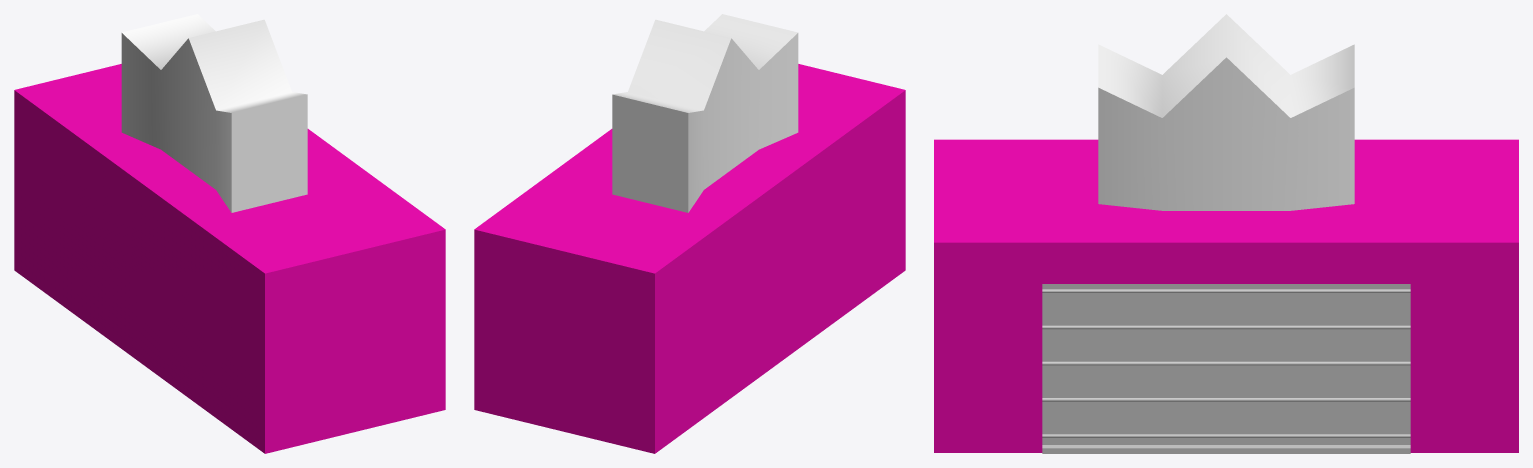
File: Home.fbx
3 views of the same model, side by side, from view 1: azimuth 30°, elevation 25°; view 2: azimuth 150°, elevation 25°; view 3: azimuth 270°, elevation 25° (orthographic). The views are drawn at different scales.
Parts seen in each view (by area): view 1: polySurface2; view 2: polySurface2; view 3: polySurface2, pCylinder6.
Part boxes in pixels (x1=…): polySurface2: x1=14, y1=14, x2=445, y2=453; polySurface2: x1=474, y1=14, x2=905, y2=453; polySurface2: x1=934, y1=14, x2=1518, y2=452; pCylinder6: x1=1042, y1=284, x2=1410, y2=453.
Size of the model in its own units: 9.1 by 14.88 by 21.67.
